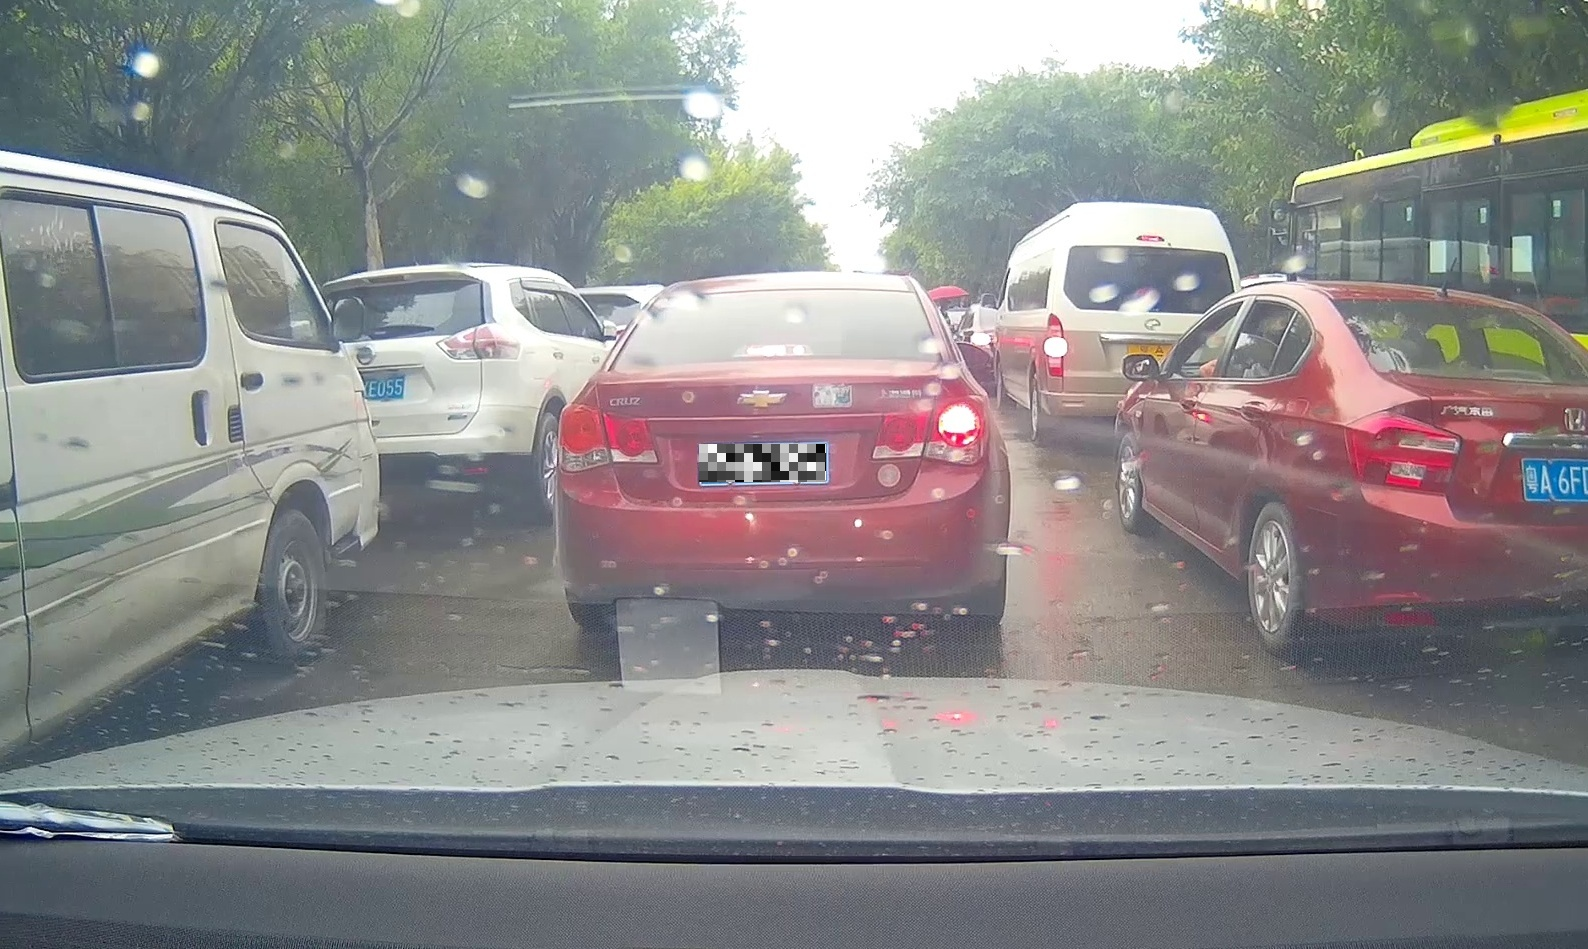L_light: (558, 403, 662, 471)
R_light: (870, 397, 988, 465)
T_light: (738, 342, 811, 356)
day-right: (553, 277, 996, 630)
plate_1: (699, 444, 826, 482)
